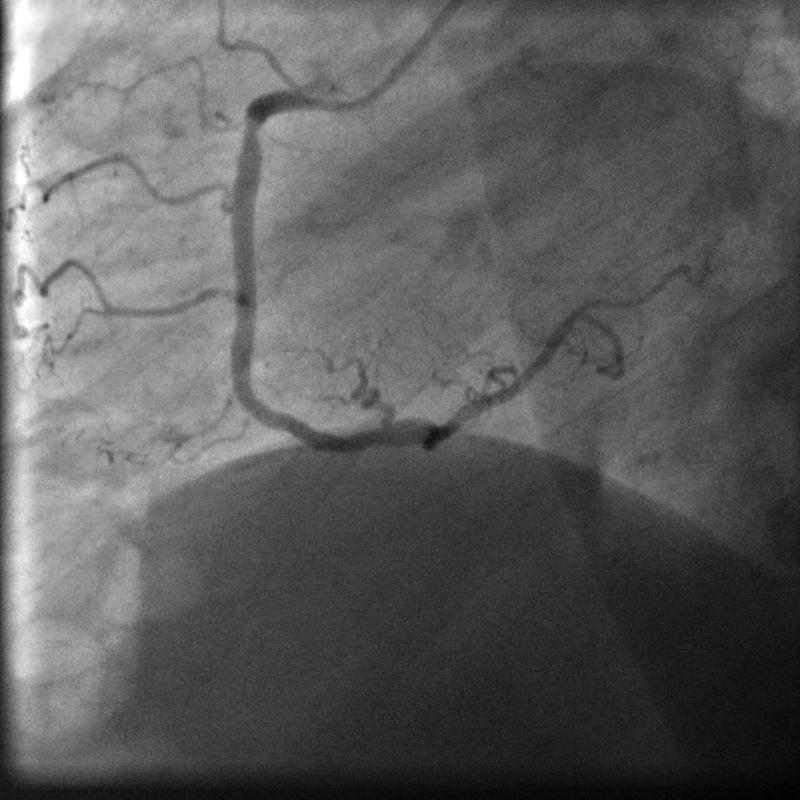Stenosis: (240, 103, 262, 168)
